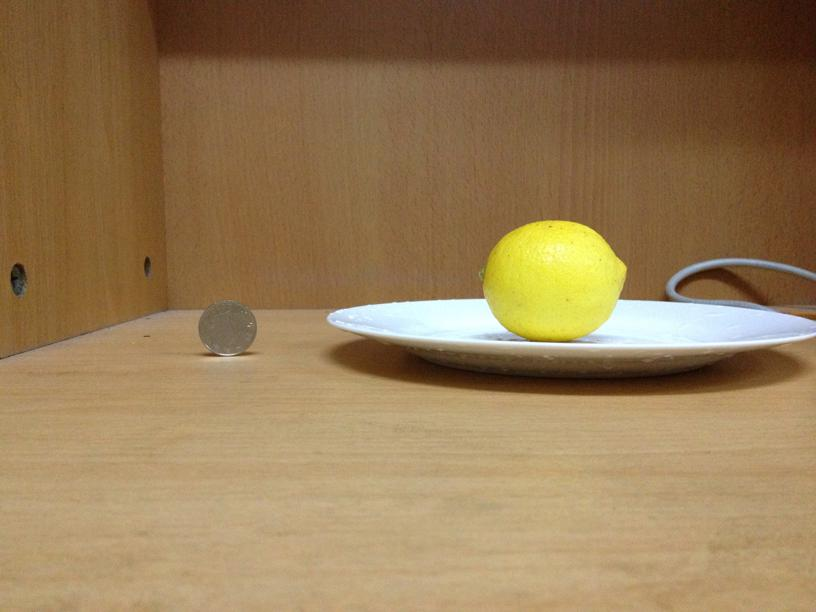coin: (196, 299, 259, 355)
lemon: (482, 220, 628, 342)
